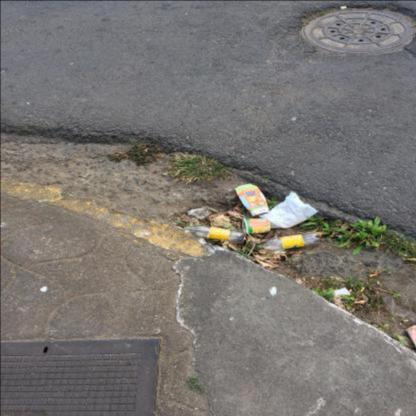Bottle cap: (255, 232, 320, 251), (185, 225, 246, 243)
Carton: (234, 183, 269, 216)
Cigarette: (370, 274, 378, 278), (360, 287, 365, 292), (349, 287, 352, 292)
Cup: (242, 218, 270, 234)
Plastic bag - wrapper: (258, 191, 317, 228), (187, 208, 211, 220)
Unlabeled litter: (333, 287, 351, 295)
